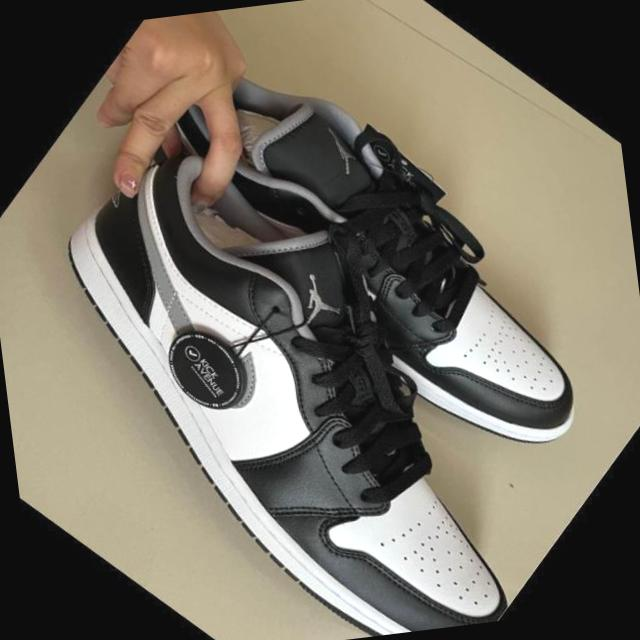nike_original_jordan: (0, 57, 637, 640), (101, 0, 640, 525)
